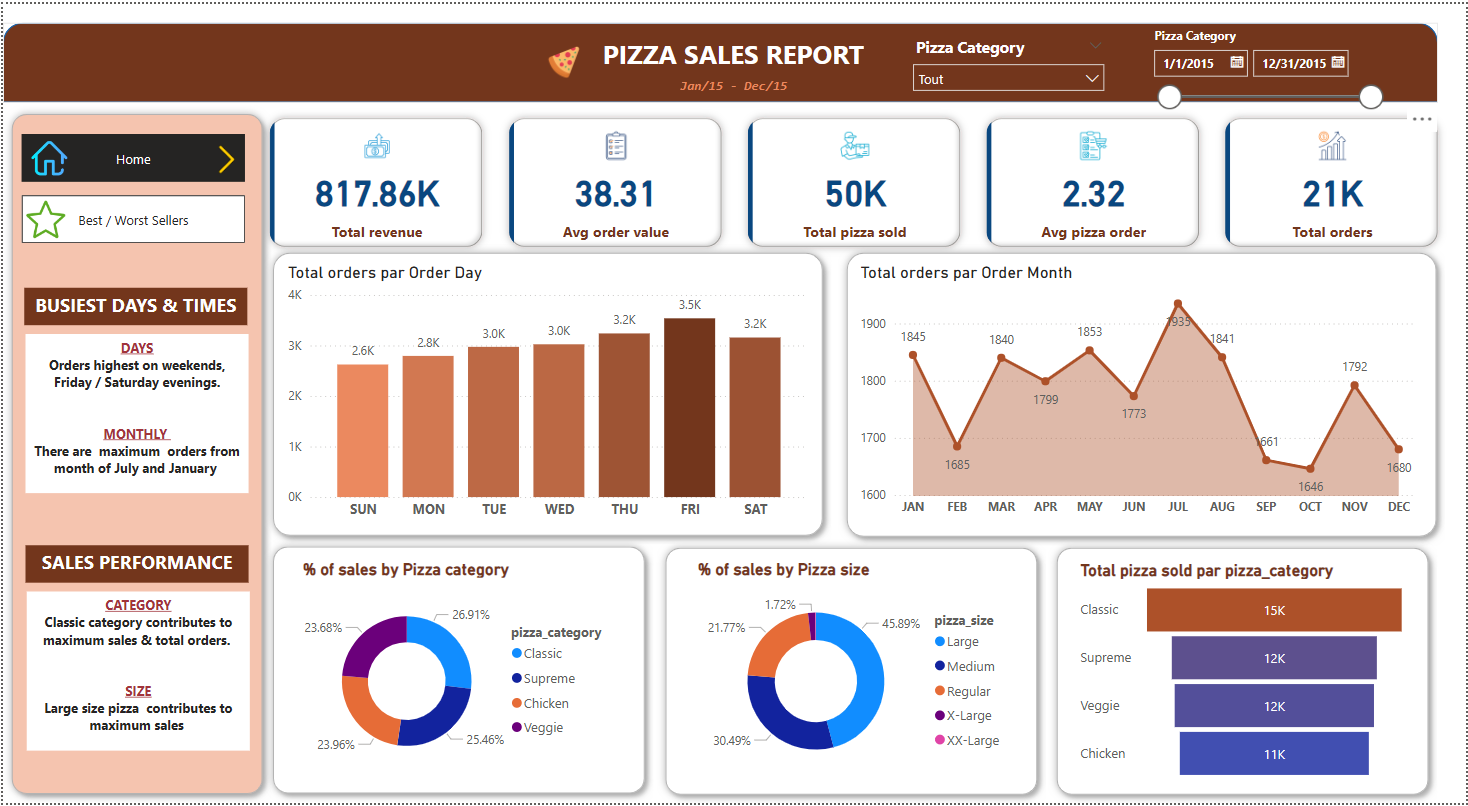

Layout of this report page (visuals, bound fields, positions):
{"tool":"powerbi","page":{"name":"Home","canvas":[1500,820],"ordinal":0},"visuals":[{"type":"cardVisual","fields":{"Data":["pizza_sales.Total revenue","pizza_sales.Avg order value","pizza_sales.Total pizza sold","pizza_sales.Avg pizza order","pizza_sales.Total orders"]},"box":[257.5,100.8,1230.5,164.9],"z":0},{"type":"textbox","box":[21.2,291.6,228.9,38.2],"z":0,"group":"g6"},{"type":"textbox","box":[23.5,554.6,228.9,38.2],"z":0,"group":"g7"},{"type":"shape","box":[0,103.6,275.3,715.4],"z":1000},{"type":"textbox","box":[22.3,339.2,228.9,163.5],"z":1000,"group":"g6"},{"type":"textbox","box":[24.6,602.2,228.9,163.5],"z":1000,"group":"g7"},{"type":"shape","box":[0,19.1,1471.7,81.8],"z":2000},{"type":"textbox","box":[600.9,28.6,295.7,45],"z":3000},{"type":"textbox","box":[684,69.5,129.5,31.3],"z":4000},{"type":"image","box":[550.5,38.2,50.4,42.2],"z":5000},{"type":"shape","box":[268.4,246.6,581.9,308.2],"z":5000,"group":"g1"},{"type":"shape","box":[856,246.4,622.7,309.3],"z":6000,"group":"g2"},{"type":"shape","box":[268.4,547.8,399.3,271.2],"z":6000},{"type":"group","id":"g1","title":"Groupe 1","box":[268.4,246.6,581.9,308.2],"z":7000},{"type":"group","id":"g2","title":"Groupe 2","box":[856,246.4,622.7,309.3],"z":8000},{"type":"areaChart","fields":{"Category":["pizza_sales.Order Month"],"Y":["pizza_sales.Total orders"]},"box":[873.4,265.7,580.5,268.4],"z":8000,"group":"g2"},{"type":"clusteredColumnChart","fields":{"Category":["pizza_sales.Order Day"],"Y":["pizza_sales.Total orders"]},"box":[287.5,265.7,543.7,272.5],"z":9000,"group":"g1"},{"type":"shape","box":[1072.4,549.1,399.3,271.2],"z":9000},{"type":"shape","box":[670.4,548.8,399.3,271.2],"z":10000},{"type":"donutChart","title":"% of sales by Pizza category","fields":{"Category":["pizza_sales.pizza_category"],"Y":["pizza_sales.Total revenue"]},"box":[302.5,569.6,332.5,231.7],"z":11000},{"type":"donutChart","title":"% of sales by Pizza size","fields":{"Y":["pizza_sales.Total revenue"],"Category":["pizza_sales.pizza_size"]},"box":[707.2,569.6,332.5,231.7],"z":12000},{"type":"funnel","fields":{"Category":["pizza_sales.pizza_category"],"Y":["pizza_sales.Total pizza sold"]},"box":[1099.7,571,344.8,230.3],"z":13000},{"type":"group","id":"g3","title":"Groupe 3","box":[21.2,291.6,230.3,211.2],"z":14000},{"type":"group","id":"g4","title":"Groupe 4","box":[23.5,554.6,230.3,211.2],"z":15000},{"type":"slicer","fields":{"Values":["pizza_sales.pizza_category"]},"box":[922.5,28.6,216.7,62.7],"z":16000},{"type":"slicer","fields":{"Values":["pizza_sales.Order_date"]},"box":[1167.8,19.1,256.2,98.1],"z":17000},{"type":"pageNavigator","box":[19.3,133.5,230,49.9],"z":18000},{"type":"pageNavigator","box":[19.3,196.2,230,49.9],"z":19000},{"type":"group","id":"g5","title":"Groupe 4","box":[21.2,291.6,230.3,211.2],"z":19002,"group":"g3"},{"type":"group","id":"g6","title":"Groupe 5","box":[21.2,291.6,230.3,211.2],"z":19002,"group":"g5"},{"type":"group","id":"g7","title":"Groupe 5","box":[23.5,554.6,230.3,211.2],"z":19002,"group":"g4"},{"type":"image","box":[24.1,133.5,46.6,49.9],"z":20000},{"type":"image","box":[16.1,196.2,54.7,49.9],"z":21000},{"type":"image","box":[210.7,135.1,38.6,49.9],"z":22000}]}

Visuals, with their boxes in screenshot pixels (x1, y1, x2, y2), scaled from the page's 1500x820 canvas onto the 1468x806 screenshot:
cardVisual - pizza_sales.Total revenue x pizza_sales.Avg order value: {"x1": 252, "y1": 99, "x2": 1456, "y2": 261}
textbox: {"x1": 21, "y1": 287, "x2": 245, "y2": 324}
textbox: {"x1": 23, "y1": 545, "x2": 247, "y2": 583}
shape: {"x1": 0, "y1": 102, "x2": 269, "y2": 805}
textbox: {"x1": 22, "y1": 333, "x2": 246, "y2": 494}
textbox: {"x1": 24, "y1": 592, "x2": 248, "y2": 753}
shape: {"x1": 0, "y1": 19, "x2": 1440, "y2": 99}
textbox: {"x1": 588, "y1": 28, "x2": 877, "y2": 72}
textbox: {"x1": 669, "y1": 68, "x2": 796, "y2": 99}
image: {"x1": 539, "y1": 38, "x2": 588, "y2": 79}
shape: {"x1": 263, "y1": 242, "x2": 832, "y2": 545}
shape: {"x1": 838, "y1": 242, "x2": 1447, "y2": 546}
shape: {"x1": 263, "y1": 538, "x2": 653, "y2": 805}
"Groupe 1" group: {"x1": 263, "y1": 242, "x2": 832, "y2": 545}
"Groupe 2" group: {"x1": 838, "y1": 242, "x2": 1447, "y2": 546}
areaChart - pizza_sales.Order Month x pizza_sales.Total orders: {"x1": 855, "y1": 261, "x2": 1423, "y2": 525}
clusteredColumnChart - pizza_sales.Order Day x pizza_sales.Total orders: {"x1": 281, "y1": 261, "x2": 813, "y2": 529}
shape: {"x1": 1050, "y1": 540, "x2": 1440, "y2": 805}
shape: {"x1": 656, "y1": 539, "x2": 1047, "y2": 805}
"% of sales by Pizza category" donutChart: {"x1": 296, "y1": 560, "x2": 621, "y2": 788}
"% of sales by Pizza size" donutChart: {"x1": 692, "y1": 560, "x2": 1018, "y2": 788}
funnel - pizza_sales.pizza_category x pizza_sales.Total pizza sold: {"x1": 1076, "y1": 561, "x2": 1414, "y2": 788}
"Groupe 3" group: {"x1": 21, "y1": 287, "x2": 246, "y2": 494}
"Groupe 4" group: {"x1": 23, "y1": 545, "x2": 248, "y2": 753}
slicer - pizza_sales.pizza_category: {"x1": 903, "y1": 28, "x2": 1115, "y2": 90}
slicer - pizza_sales.Order_date: {"x1": 1143, "y1": 19, "x2": 1394, "y2": 115}
pageNavigator: {"x1": 19, "y1": 131, "x2": 244, "y2": 180}
pageNavigator: {"x1": 19, "y1": 193, "x2": 244, "y2": 242}
"Groupe 4" group: {"x1": 21, "y1": 287, "x2": 246, "y2": 494}
"Groupe 5" group: {"x1": 21, "y1": 287, "x2": 246, "y2": 494}
"Groupe 5" group: {"x1": 23, "y1": 545, "x2": 248, "y2": 753}
image: {"x1": 24, "y1": 131, "x2": 69, "y2": 180}
image: {"x1": 16, "y1": 193, "x2": 69, "y2": 242}
image: {"x1": 206, "y1": 133, "x2": 244, "y2": 182}
